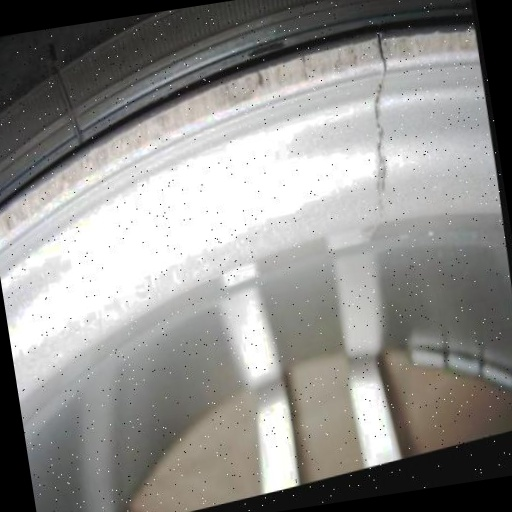crack: (328, 22, 426, 233)
